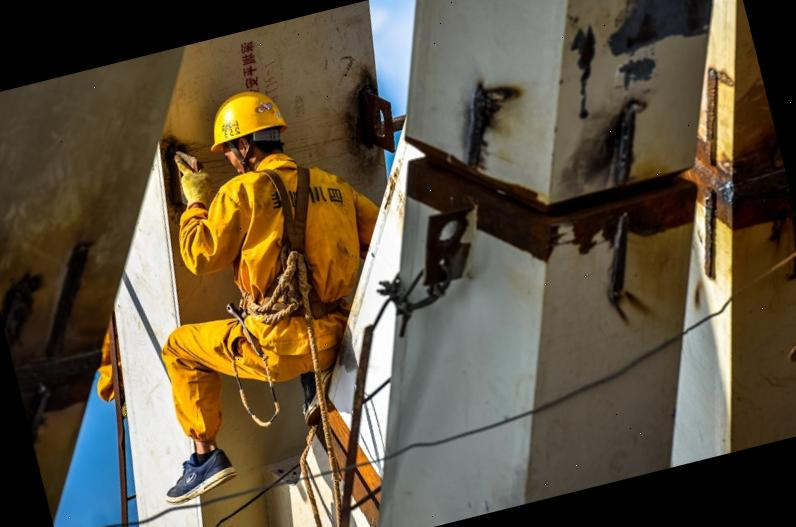helmet: (193, 84, 291, 160)
wear: (210, 149, 382, 334)
